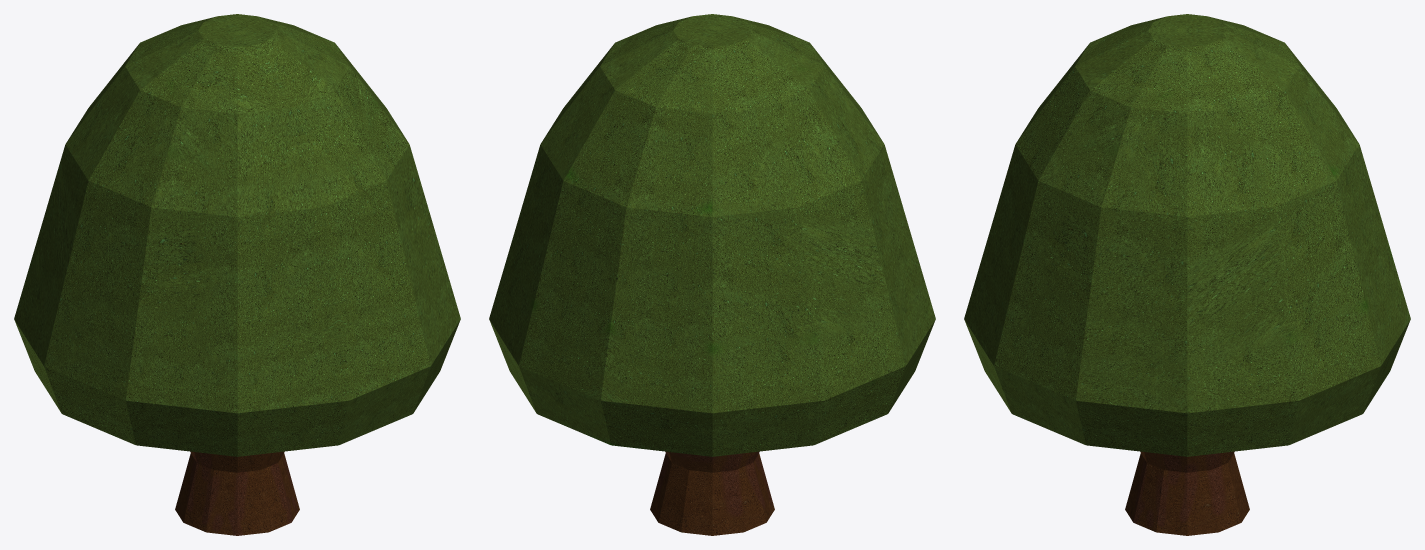
Rendered from tree.glb.
3 renders of one model, left to right at view 1: azimuth 30°, elevation 25°; view 2: azimuth 150°, elevation 25°; view 3: azimuth 270°, elevation 25°, orthographic.
Parts seen in each view (by area): view 1: model; view 2: model; view 3: model.
Boxes of the visible parts, bbox=[...] form: model: bbox=[14, 14, 460, 535]; model: bbox=[489, 14, 935, 535]; model: bbox=[964, 14, 1410, 535].
Size of the model in its own units: 7.16 by 8.46 by 7.16.
Materials: 1 (1 with a texture image).
